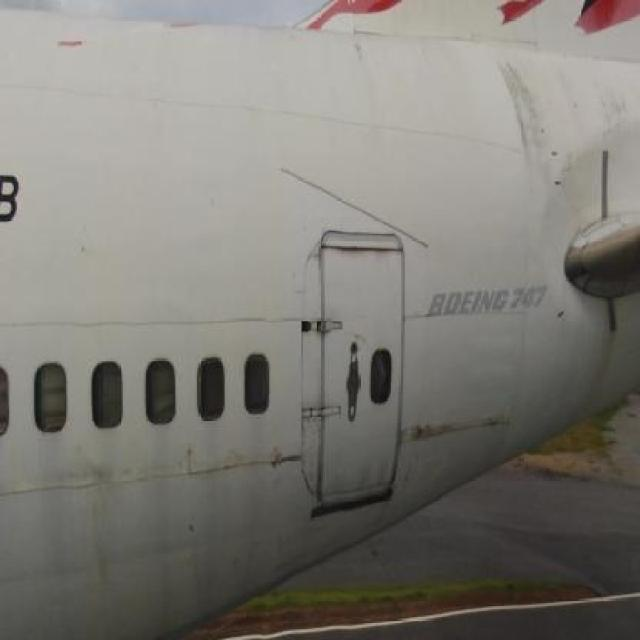Rust: (497, 49, 572, 188), (402, 403, 510, 449), (591, 309, 623, 414), (327, 232, 405, 272), (590, 58, 633, 130), (339, 444, 395, 498)
Scartch: (67, 453, 131, 587), (250, 444, 307, 479), (178, 440, 207, 489)
